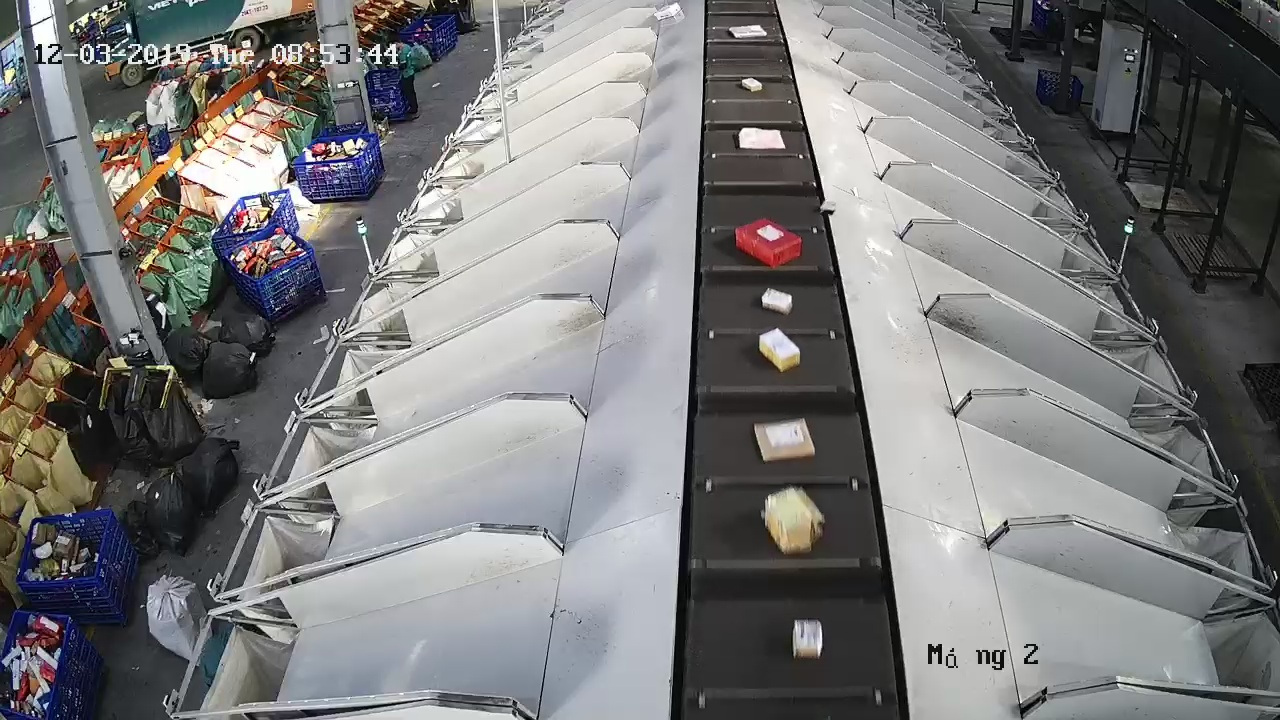parcel: (762, 482, 827, 557), (733, 215, 804, 269), (752, 414, 818, 464), (757, 326, 802, 374), (791, 616, 826, 662), (737, 125, 787, 152), (760, 286, 795, 317), (818, 198, 838, 216)
